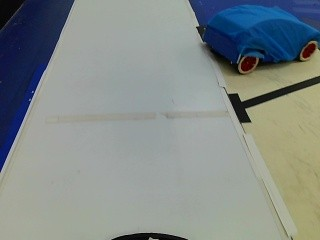car: (196, 2, 318, 70)
